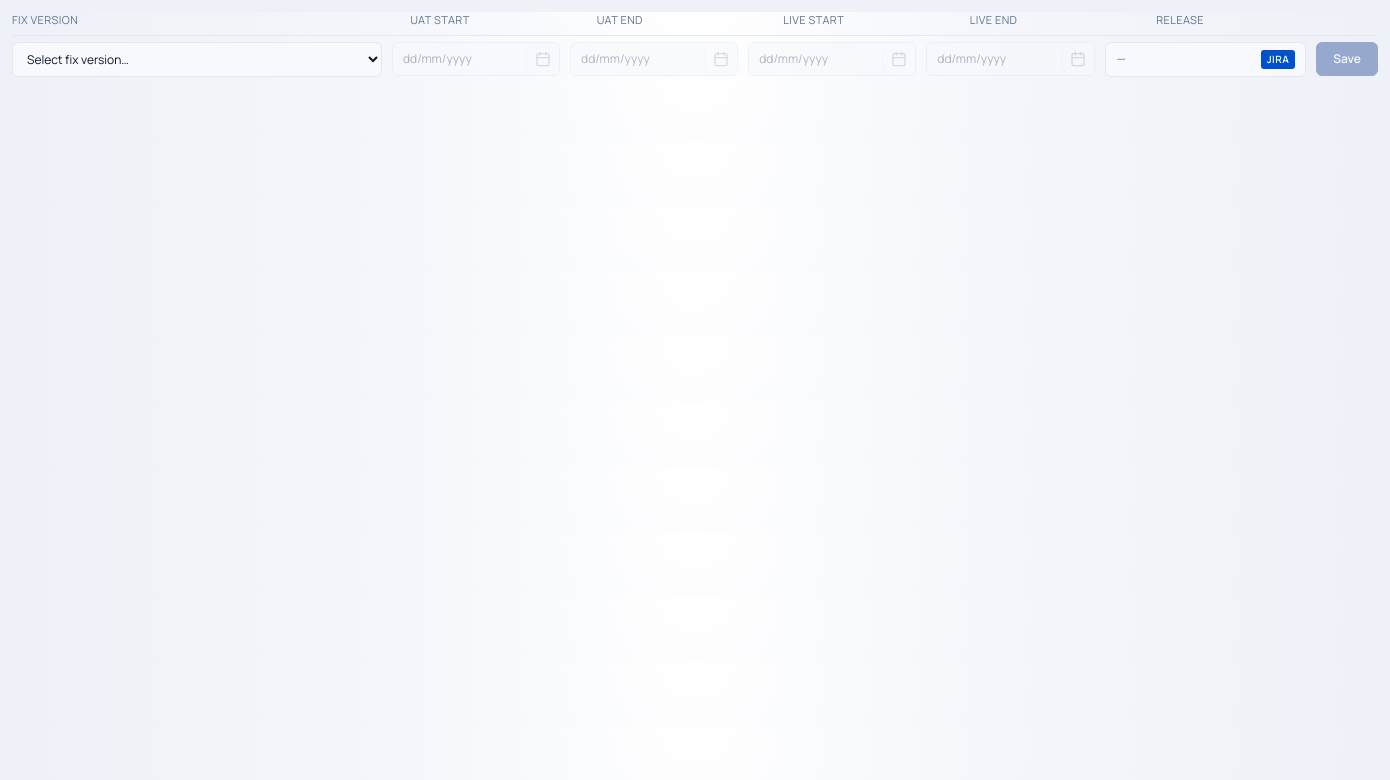
Test: FixVersionPicker › disables date inputs until a fix version is selected
The width and height of the screenshot is (1390, 780).
Expected: the field named "UAT start" is disabled, [393,43,526,75]
Expected: the field named "Live end" is disabled, [927,43,1061,75]
Select "Release Two" in the dropdown named "Fix version" at (197, 59), box [12,42,382,76]
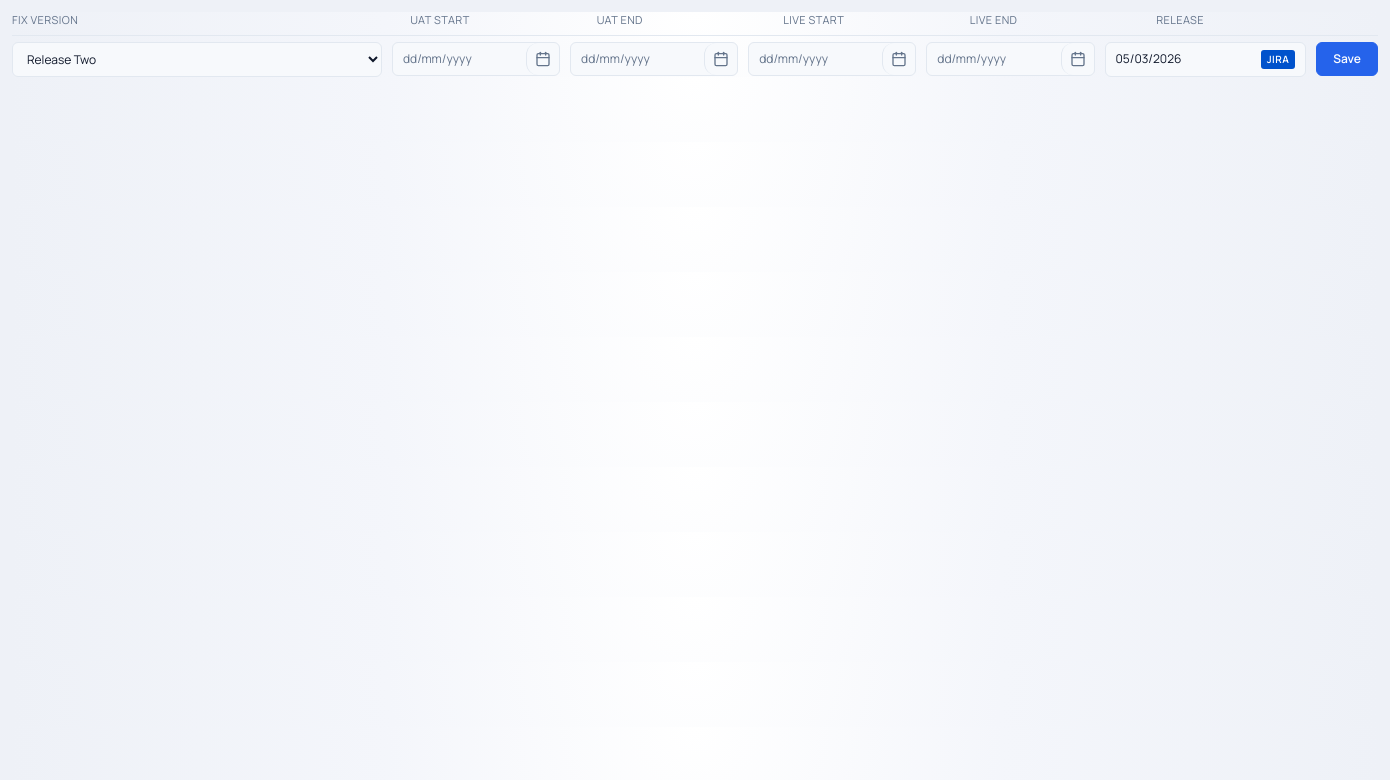
Expected: the field named "UAT start" is enabled, [393,43,526,75]
Expected: the field named "Live end" is enabled, [927,43,1061,75]
